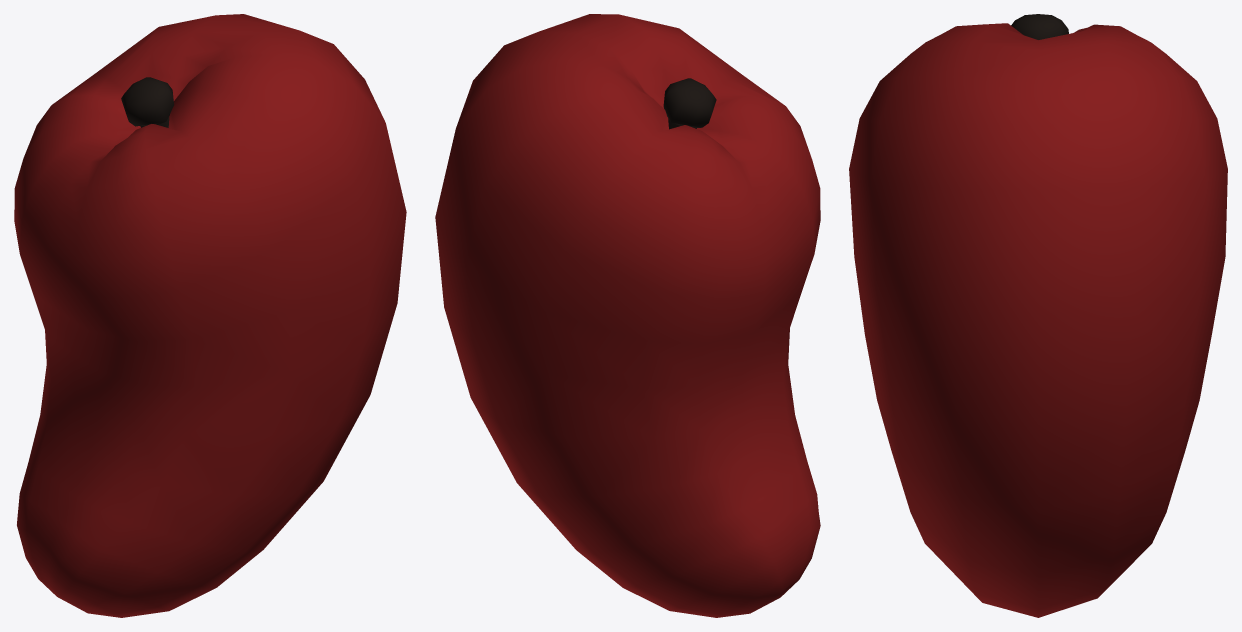
Rendered from Mango.FBX.
The picture shows the model from 3 angles, left to right: view 1: azimuth 30°, elevation 25°; view 2: azimuth 150°, elevation 25°; view 3: azimuth 270°, elevation 25°; orthographic projection. The views are drawn at different scales.
Visible parts, largest first — view 1: Mango; view 2: Mango; view 3: Mango.
Part boxes in pixels (box(x1,y1,x2,y2)): Mango: box(14, 14, 406, 617); Mango: box(435, 14, 820, 617); Mango: box(849, 14, 1227, 617).
Bounding box in the file's own units: 985 × 815 × 1467.
